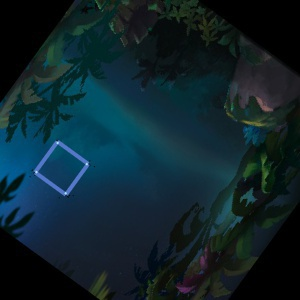square: (27, 138, 96, 199)
